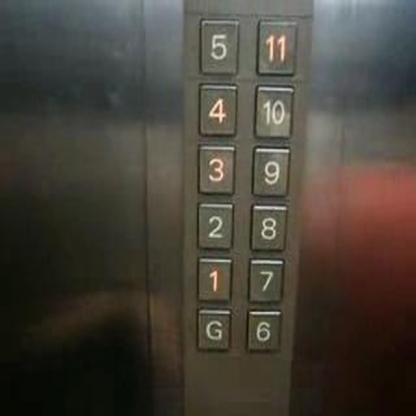1: (194, 256, 233, 305)
10: (255, 83, 293, 141)
11: (254, 17, 298, 78)
2: (194, 200, 235, 251)
3: (196, 142, 236, 198)
4: (198, 82, 238, 138)
5: (199, 18, 239, 76)
6: (245, 308, 281, 354)
7: (248, 257, 285, 305)
8: (248, 202, 286, 252)
9: (252, 148, 289, 198)
G: (193, 305, 232, 352)
